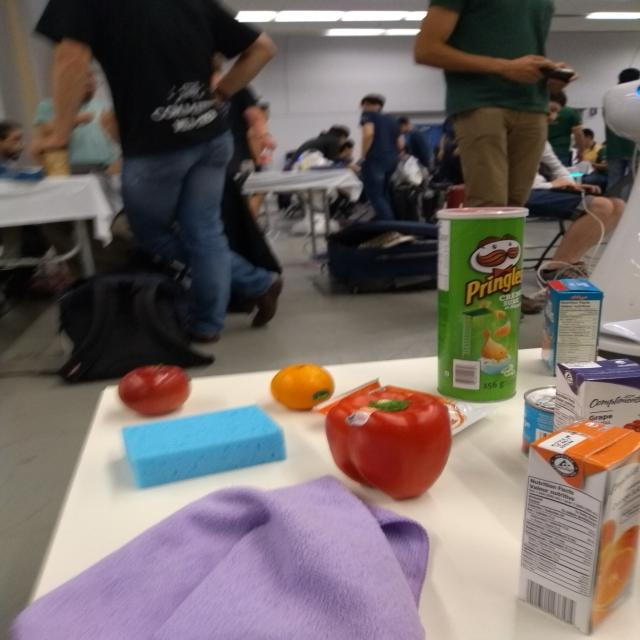apple: (113, 359, 196, 416)
cereal: (540, 275, 603, 370)
grape_juice: (551, 361, 640, 430)
orange: (267, 360, 338, 418)
orange_juice: (511, 420, 640, 637)
paprika: (325, 385, 459, 506)
pringles: (431, 201, 521, 407)
sausages: (521, 384, 556, 454)
sponge_opl: (118, 403, 290, 493)
